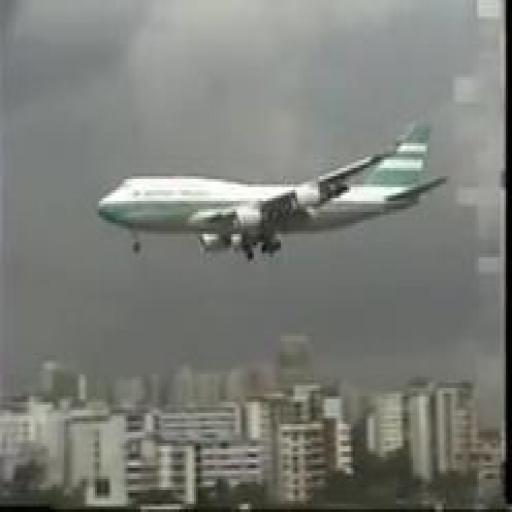aircraft: (99, 119, 448, 260)
